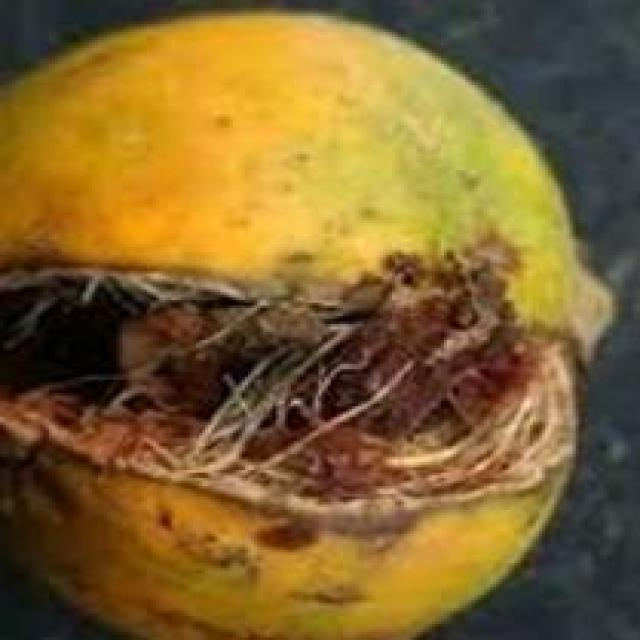damaged: (0, 11, 619, 637)
